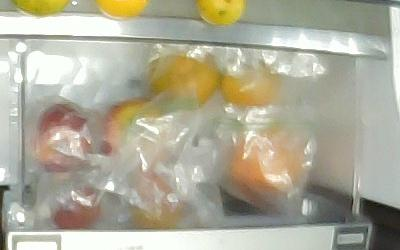apple_vinyl: (99, 96, 173, 160), (36, 101, 100, 175)
grapefruit_vinyl: (224, 126, 305, 203)
persimmon_vinyl: (146, 43, 219, 105), (217, 59, 277, 108)
prune_vinyl: (126, 165, 186, 228), (51, 186, 101, 229)
